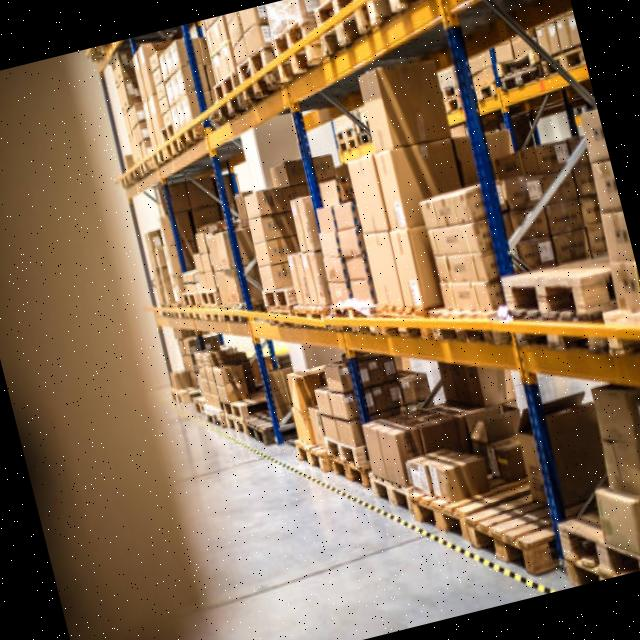Wooden-Pallets: (494, 270, 604, 334), (465, 515, 548, 590), (407, 489, 462, 543), (363, 468, 413, 523), (251, 284, 294, 316), (319, 433, 359, 466)
